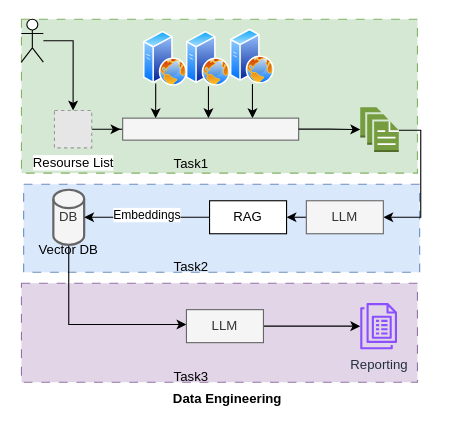
This 450x435 diagram has some shape labels left out. Grey dashed boxes stand in for pictures. The shapes that lost their labels are listed below. From the top down, each one's centre as x and y in pixels, then its label:
(x=31, y=40): User
(x=210, y=128): web Scrapping
(x=379, y=129): Documents
